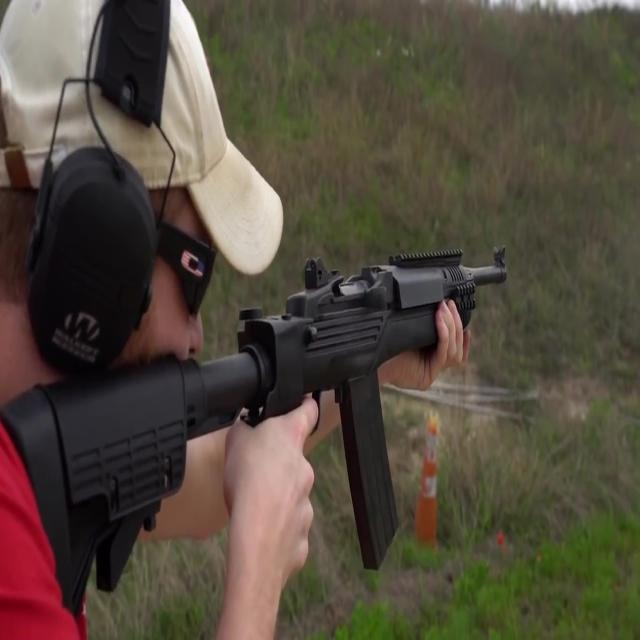Weapon: (4, 213, 534, 606)
